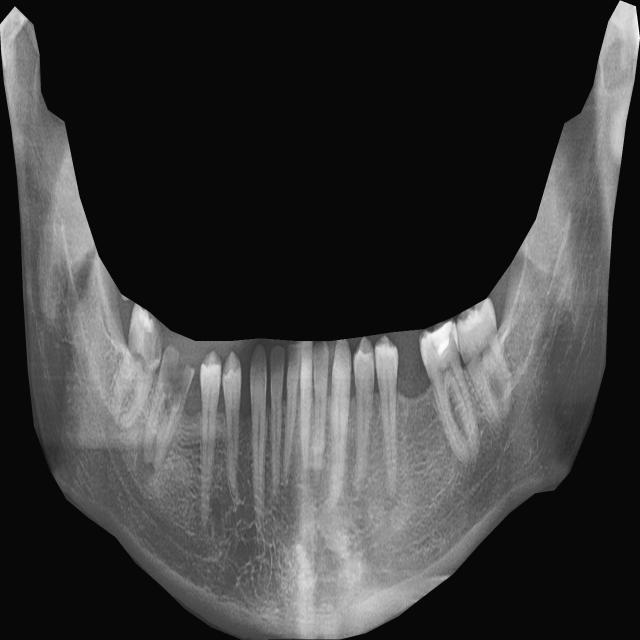mandibula: (0, 0, 640, 640)
